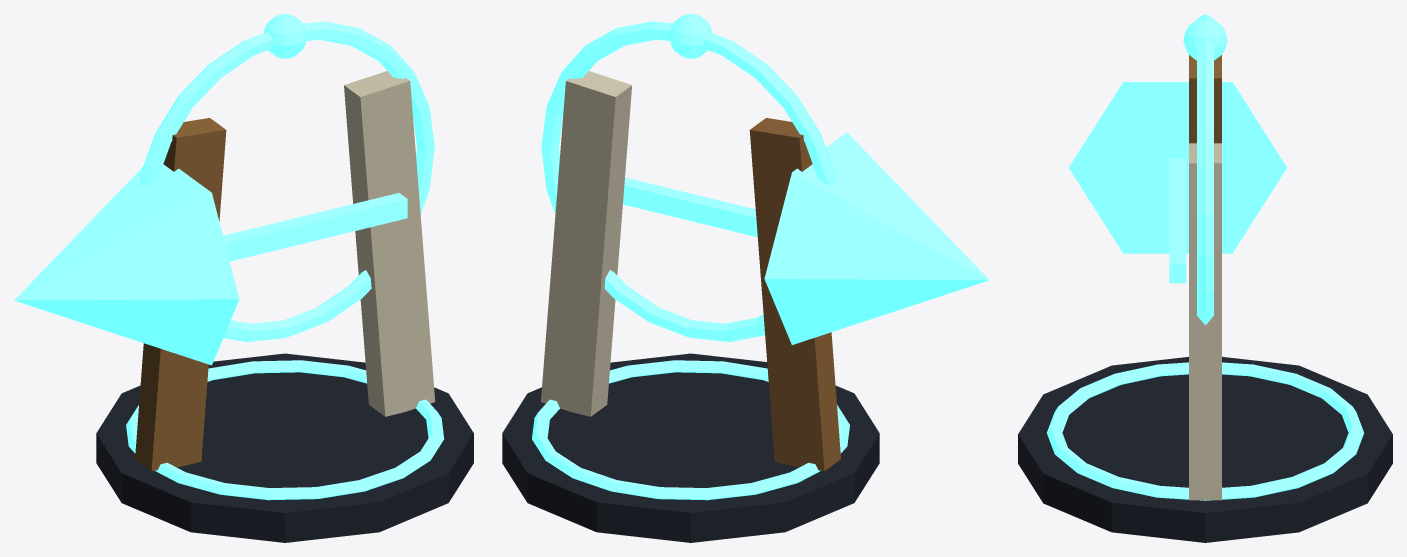
The model's file is runtime.glb.
3 renders of one model, left to right at view 1: azimuth 30°, elevation 25°; view 2: azimuth 150°, elevation 25°; view 3: azimuth 270°, elevation 25°, orthographic.
Visible parts, largest first — view 1: aetherion-orbit-beacon-v10_base_nocol, aetherion-orbit-beacon-v10_direction_head_nocol, aetherion-orbit-beacon-v10_right_leg_nocol, aetherion-orbit-beacon-v10_left_leg_nocol, aetherion-orbit-beacon-v10_open_hoop_nocol, aetherion-orbit-beacon-v10_base_orbit_nocol, aetherion-orbit-beacon-v10_direction_bar_nocol, aetherion-orbit-beacon-v10_zenith_nocol; view 2: aetherion-orbit-beacon-v10_base_nocol, aetherion-orbit-beacon-v10_direction_head_nocol, aetherion-orbit-beacon-v10_right_leg_nocol, aetherion-orbit-beacon-v10_left_leg_nocol, aetherion-orbit-beacon-v10_open_hoop_nocol, aetherion-orbit-beacon-v10_base_orbit_nocol, aetherion-orbit-beacon-v10_direction_bar_nocol, aetherion-orbit-beacon-v10_zenith_nocol; view 3: aetherion-orbit-beacon-v10_base_nocol, aetherion-orbit-beacon-v10_direction_head_nocol, aetherion-orbit-beacon-v10_right_leg_nocol, aetherion-orbit-beacon-v10_base_orbit_nocol, aetherion-orbit-beacon-v10_open_hoop_nocol, aetherion-orbit-beacon-v10_direction_bar_nocol, aetherion-orbit-beacon-v10_left_leg_nocol, aetherion-orbit-beacon-v10_zenith_nocol.
Boxes of the visible parts, x1,y1,x2,y2 form: aetherion-orbit-beacon-v10_base_nocol: [96, 353, 473, 542]; aetherion-orbit-beacon-v10_direction_head_nocol: [14, 164, 239, 365]; aetherion-orbit-beacon-v10_right_leg_nocol: [344, 71, 435, 416]; aetherion-orbit-beacon-v10_left_leg_nocol: [135, 118, 226, 471]; aetherion-orbit-beacon-v10_open_hoop_nocol: [140, 21, 434, 341]; aetherion-orbit-beacon-v10_base_orbit_nocol: [126, 360, 444, 500]; aetherion-orbit-beacon-v10_direction_bar_nocol: [223, 193, 407, 261]; aetherion-orbit-beacon-v10_zenith_nocol: [264, 14, 307, 58]; aetherion-orbit-beacon-v10_base_nocol: [502, 353, 879, 542]; aetherion-orbit-beacon-v10_direction_head_nocol: [764, 132, 989, 344]; aetherion-orbit-beacon-v10_right_leg_nocol: [541, 71, 632, 416]; aetherion-orbit-beacon-v10_left_leg_nocol: [749, 118, 840, 471]; aetherion-orbit-beacon-v10_open_hoop_nocol: [541, 21, 836, 341]; aetherion-orbit-beacon-v10_base_orbit_nocol: [532, 360, 849, 500]; aetherion-orbit-beacon-v10_direction_bar_nocol: [623, 177, 757, 237]; aetherion-orbit-beacon-v10_zenith_nocol: [668, 14, 712, 58]; aetherion-orbit-beacon-v10_base_nocol: [1018, 357, 1392, 542]; aetherion-orbit-beacon-v10_direction_head_nocol: [1069, 82, 1286, 253]; aetherion-orbit-beacon-v10_right_leg_nocol: [1189, 143, 1221, 500]; aetherion-orbit-beacon-v10_base_orbit_nocol: [1047, 362, 1363, 500]; aetherion-orbit-beacon-v10_open_hoop_nocol: [1197, 14, 1213, 324]; aetherion-orbit-beacon-v10_direction_bar_nocol: [1169, 158, 1186, 283]; aetherion-orbit-beacon-v10_left_leg_nocol: [1189, 55, 1221, 143]; aetherion-orbit-beacon-v10_zenith_nocol: [1183, 18, 1227, 60].
Size of the model in its own units: 7.84 by 7.47 by 5.71.
